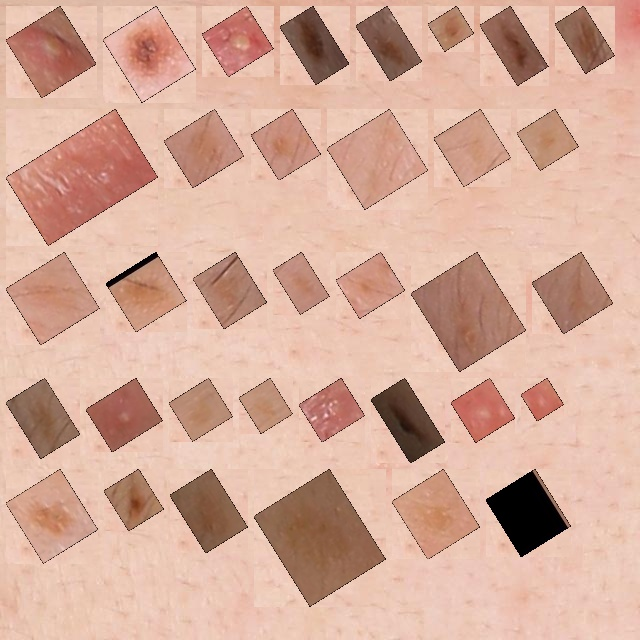hypertrophic_scar: (17, 120, 147, 234)
melasma: (265, 480, 375, 595), (422, 263, 515, 360), (338, 120, 417, 198), (17, 263, 88, 334), (17, 480, 87, 552), (403, 480, 469, 548), (497, 480, 560, 546), (543, 263, 602, 323), (181, 480, 237, 542), (117, 263, 175, 321), (175, 120, 233, 176), (445, 120, 500, 175), (17, 389, 69, 447), (204, 263, 256, 318), (262, 120, 310, 169), (347, 263, 394, 307), (180, 389, 222, 430), (528, 120, 567, 159), (284, 263, 318, 303), (250, 389, 282, 422)
nevus: (114, 17, 185, 91), (382, 389, 434, 452), (291, 17, 338, 73), (491, 17, 537, 74), (367, 17, 411, 70), (115, 480, 153, 520), (439, 17, 463, 40)
pustule: (17, 17, 85, 87), (97, 389, 152, 441), (213, 17, 262, 65), (310, 389, 354, 431), (462, 389, 504, 431), (532, 389, 553, 410)
